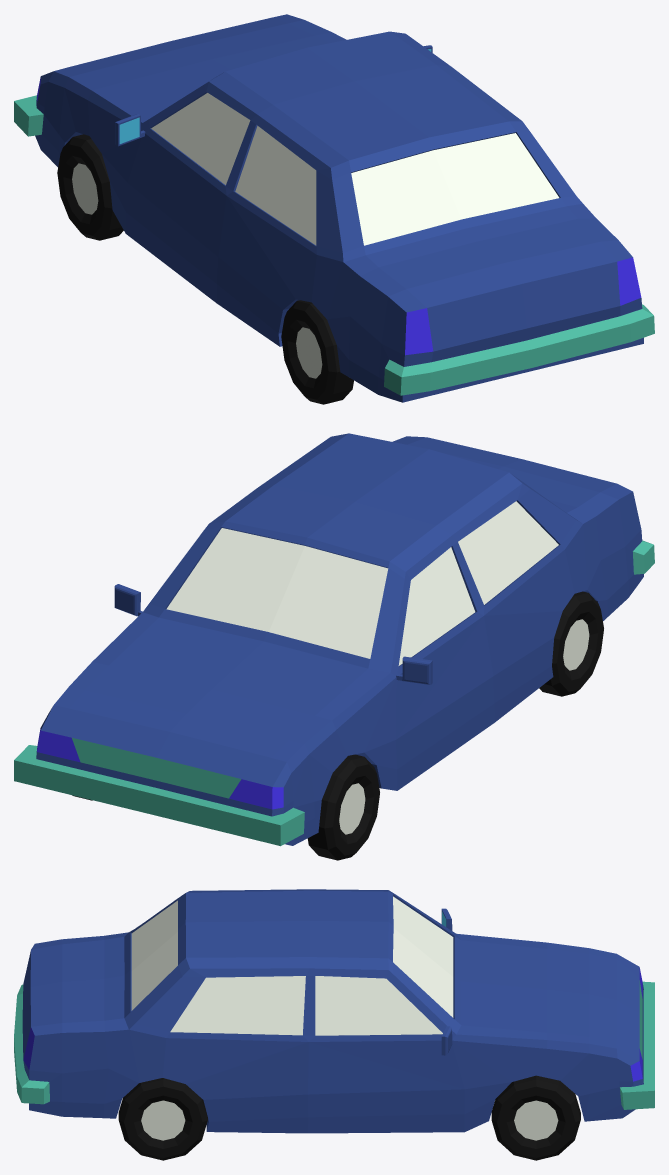
Rendered from Car01.fbx.
3 renders of one model, top to bottom at view 1: azimuth 30°, elevation 25°; view 2: azimuth 150°, elevation 25°; view 3: azimuth 270°, elevation 25°, orthographic. The views are drawn at different scales.
Parts seen in each view (by area): view 1: Car01; view 2: Car01; view 3: Car01.
Boxes of the visible parts, <box> form: Car01: <box>14,14,654,404</box>; Car01: <box>14,433,654,860</box>; Car01: <box>14,889,654,1160</box>.
Bounding box in the file's own units: 268 × 181 × 567.
